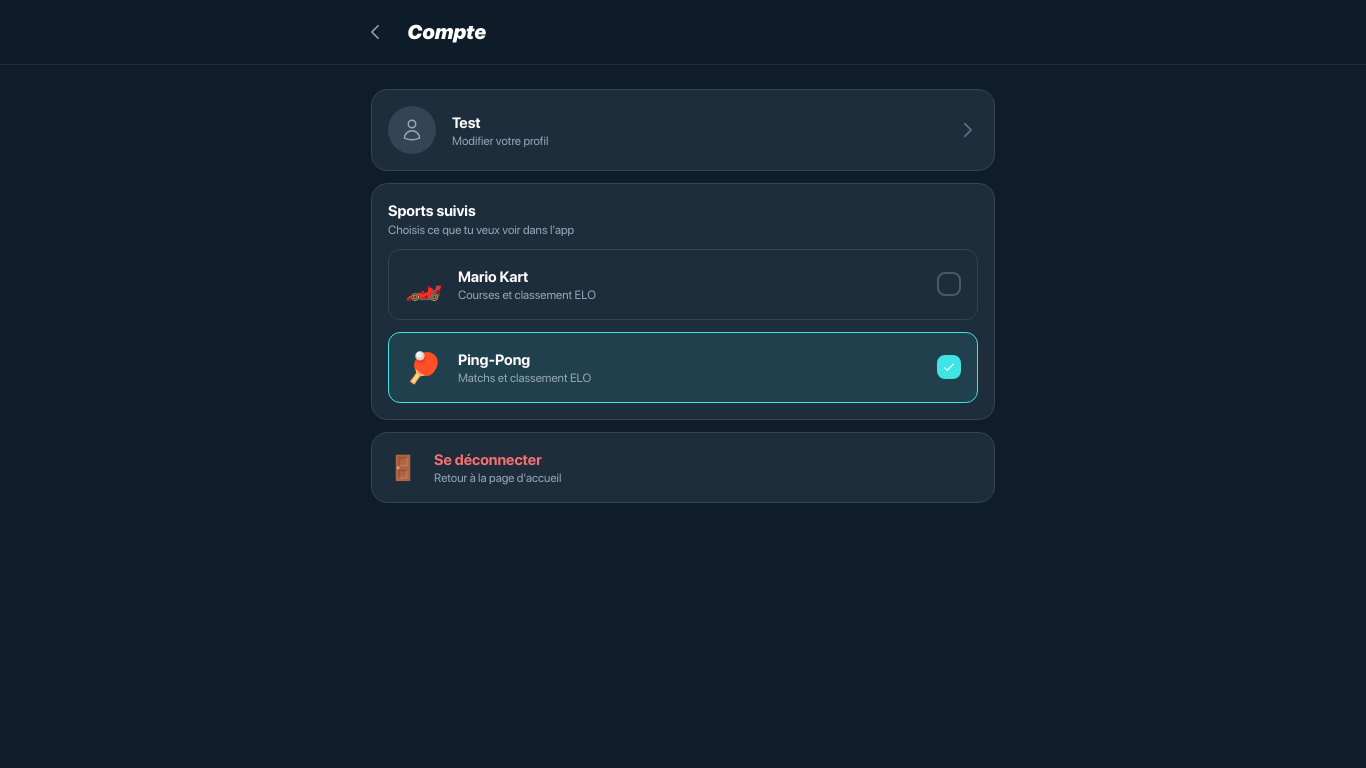
it: AccountSettingsPage — sport preference › the last remaining sport › says why nothing happened
Click the checkbox labelled "🏓 Ping-Pong Matchs et classement ELO". click: x=683, y=367
box: [388,332,978,403]
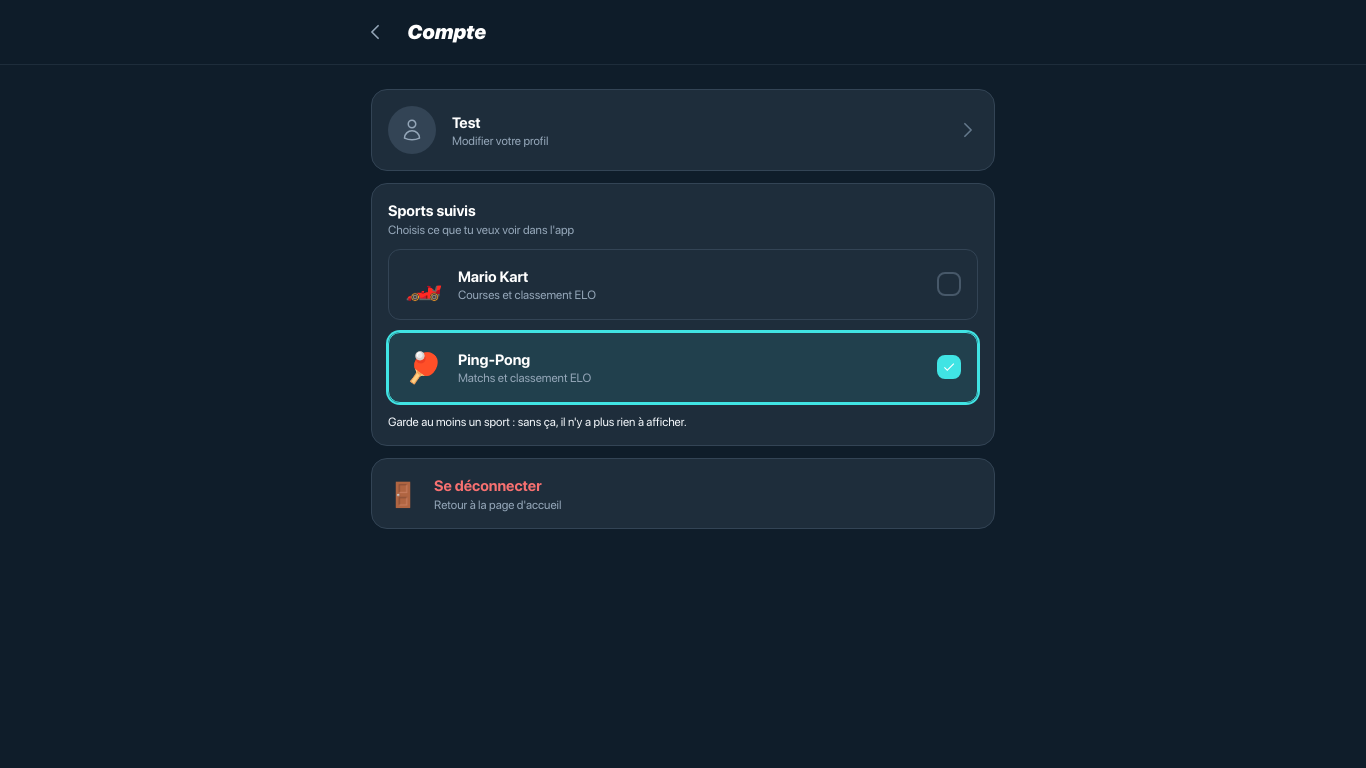
Expected: the message "Garde au moins un sport : sans ça, il n'y a plus rien à afficher." is shown, [388,415,687,429]
